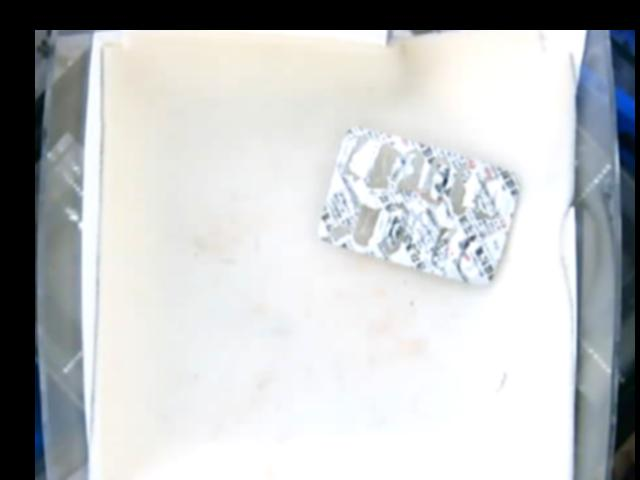Medicine: (317, 127, 519, 285)
